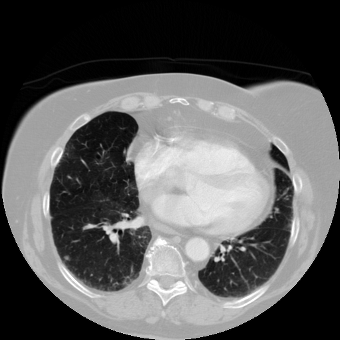nodule: (64, 254, 70, 260)
